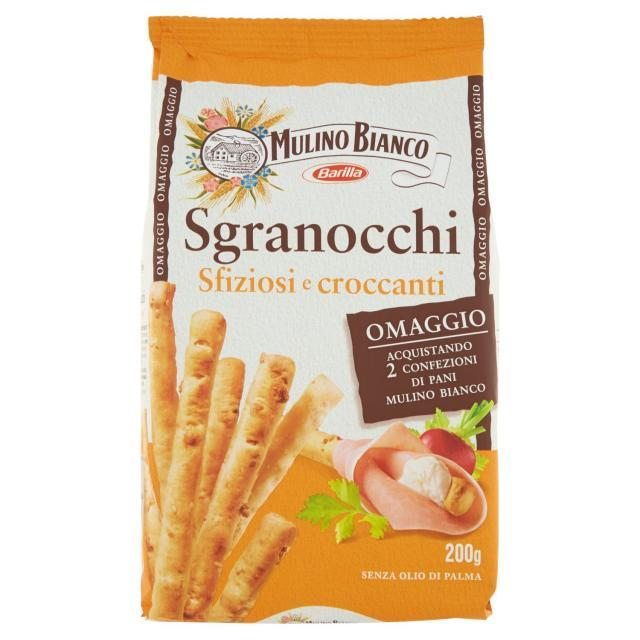Grissini: (164, 304, 300, 614)
